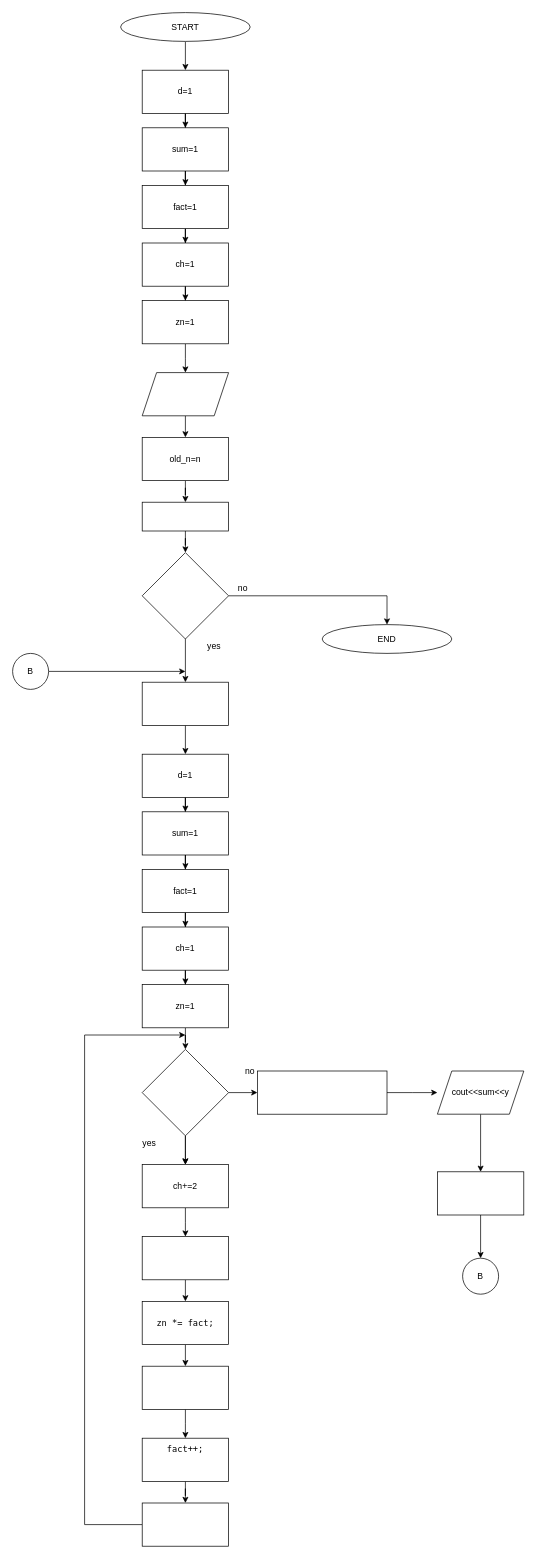
The diagram is 536 pixels wide and 1559 high, and some of its shapes have lost their labels. Here are the shapes that lost their labels. From the top down, the centre of each, then its label:
point (185, 394): cin>>n>>k;
point (185, 516): I = 0
point (185, 595): I<k
point (185, 703): n = old_n
point (185, 1092): n-1>0
point (322, 1092): y = ( 1 + 2 * pow (x, 2 )) * exp ( pow (x, 2 ));
point (480, 1193): I++
point (185, 1258): d *= pow (x, 2 );
point (185, 1387): sum += ch * d / zn;
point (185, 1524): n --;
